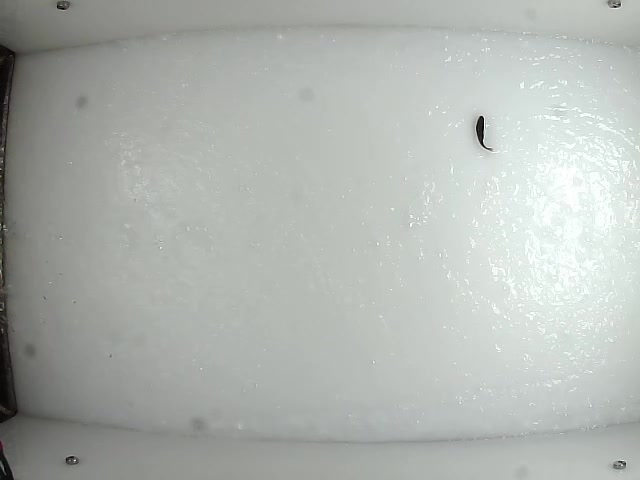fish: (474, 113, 497, 152)
